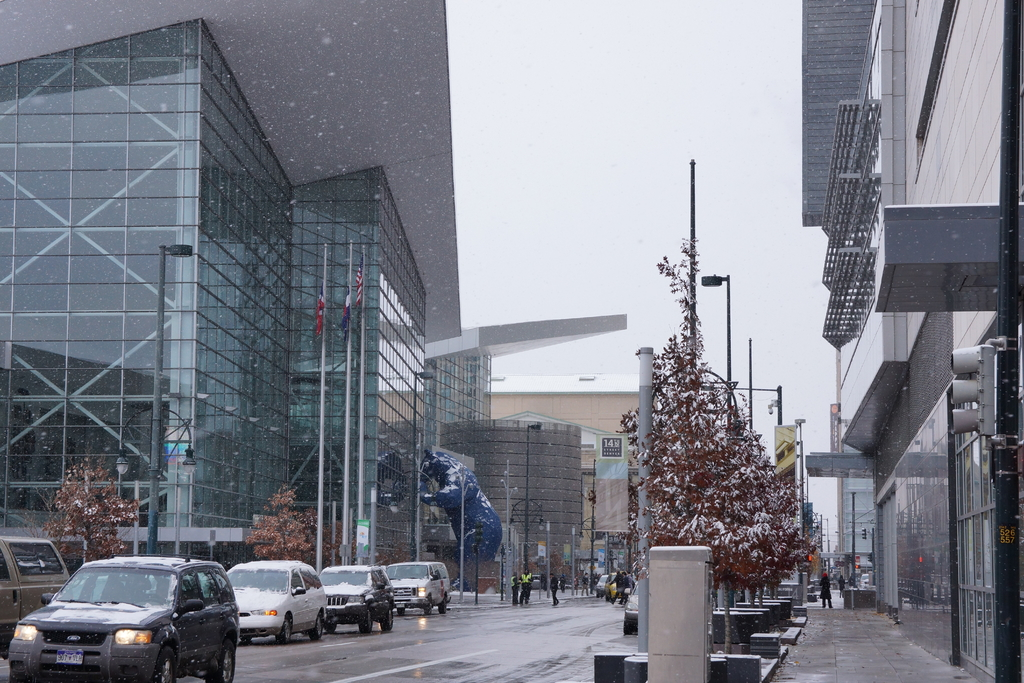Car: (10, 551, 236, 682), (225, 560, 330, 638), (0, 537, 63, 635), (318, 563, 394, 635), (386, 563, 448, 610)
